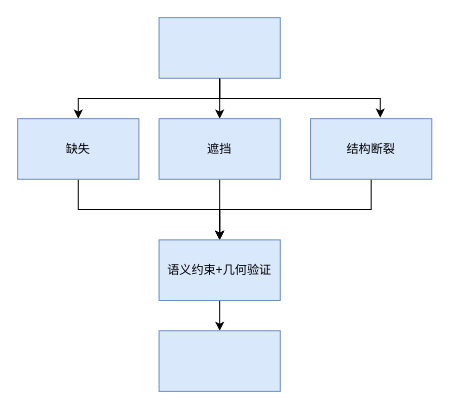
Some shapes in this 449 by 409 pixel diagram are drawn without their labels. Here are the shapes that lost their labels. From the top down, the centre of each, then its label:
At (219,47): "室内点云".
At (219,360): "结构模型".
